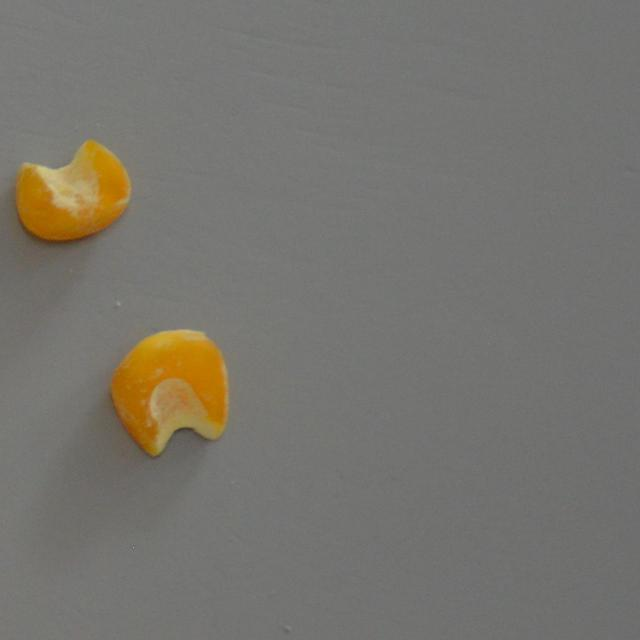pelicula: (102, 322, 235, 464), (10, 136, 136, 246)
